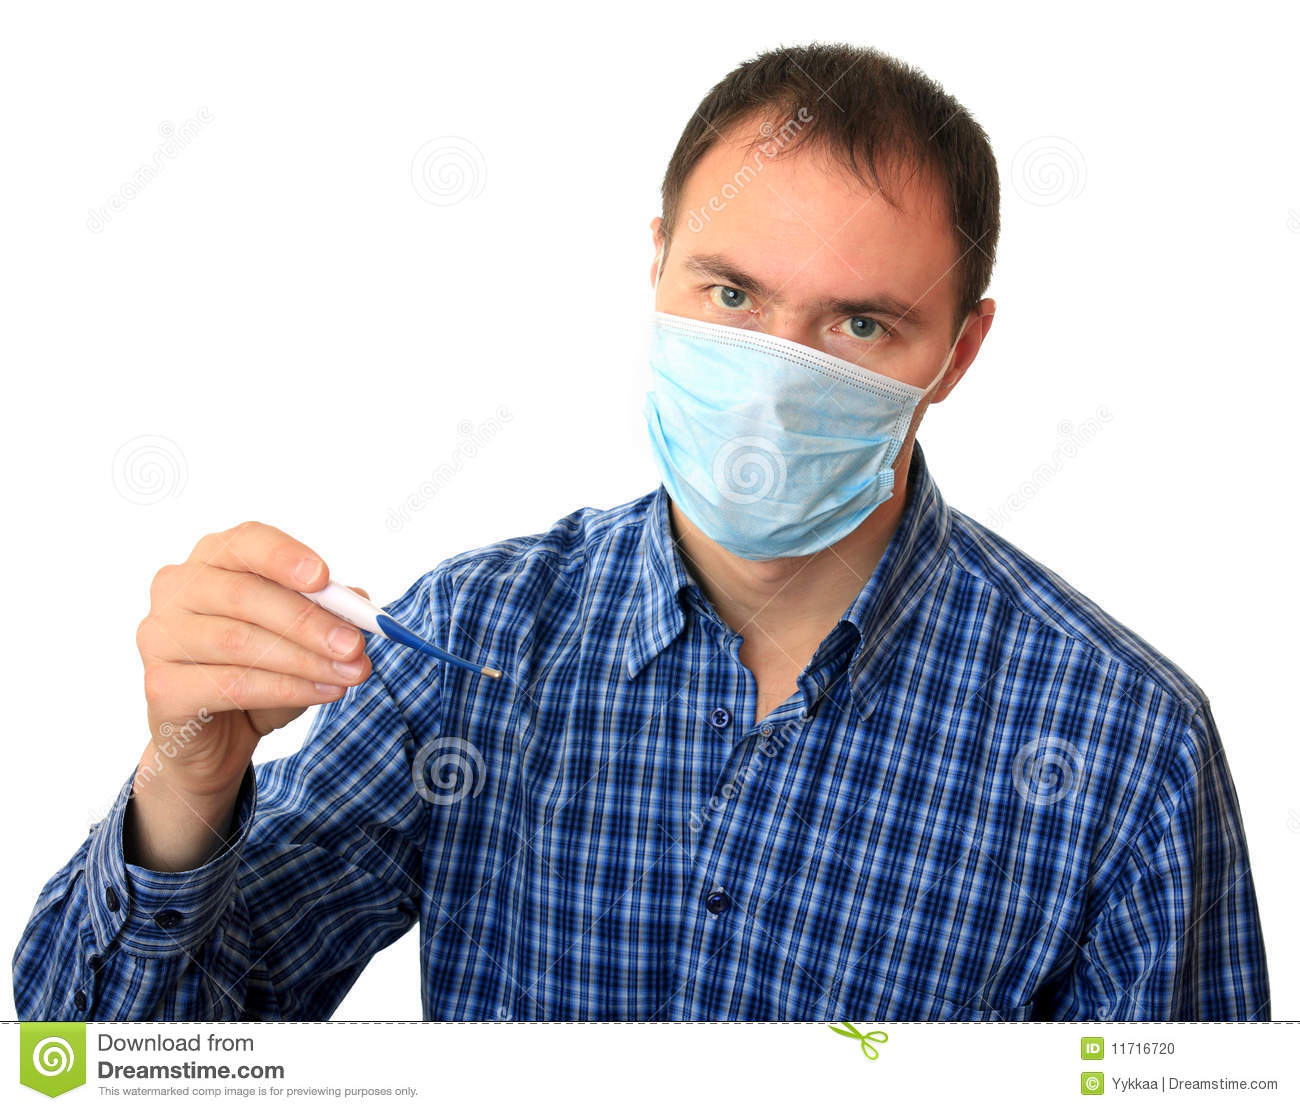mask: (640, 319, 906, 581)
